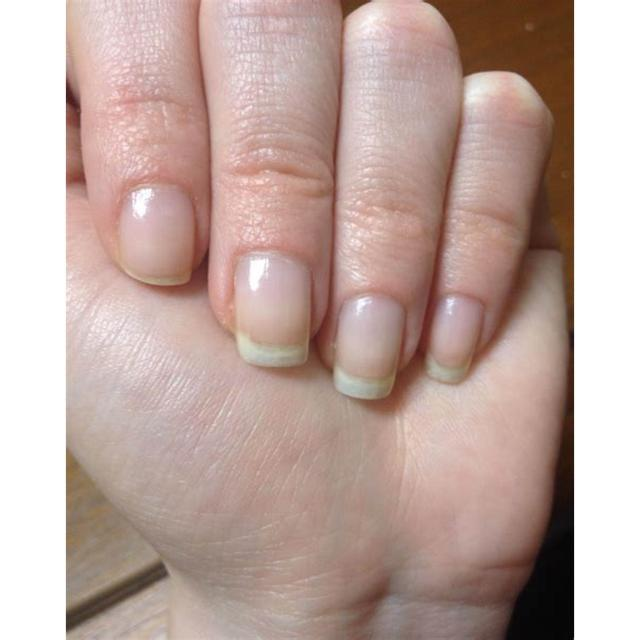Fingernail: (235, 252, 311, 367), (118, 186, 195, 286), (333, 295, 404, 400), (427, 296, 483, 383)
